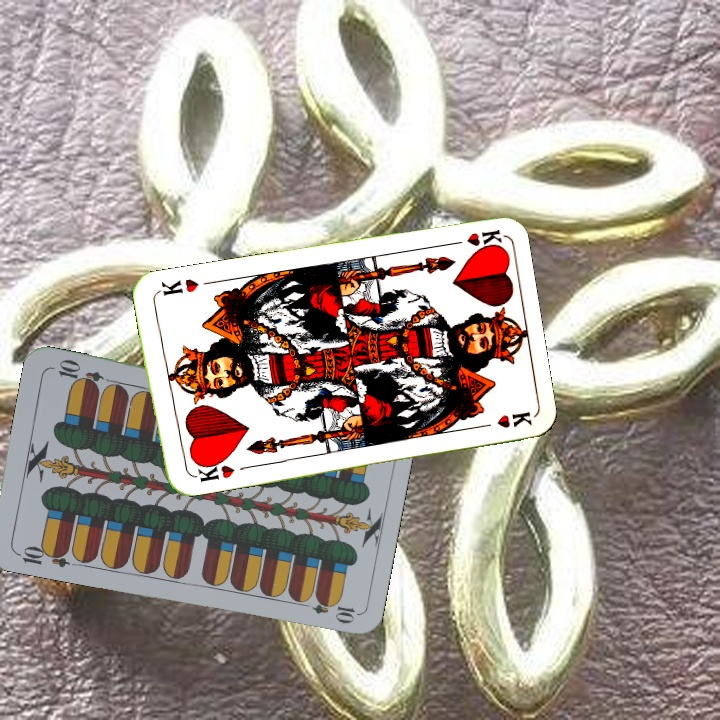E10: (12, 541, 71, 570)
HK: (443, 225, 503, 253), (186, 455, 237, 485)
